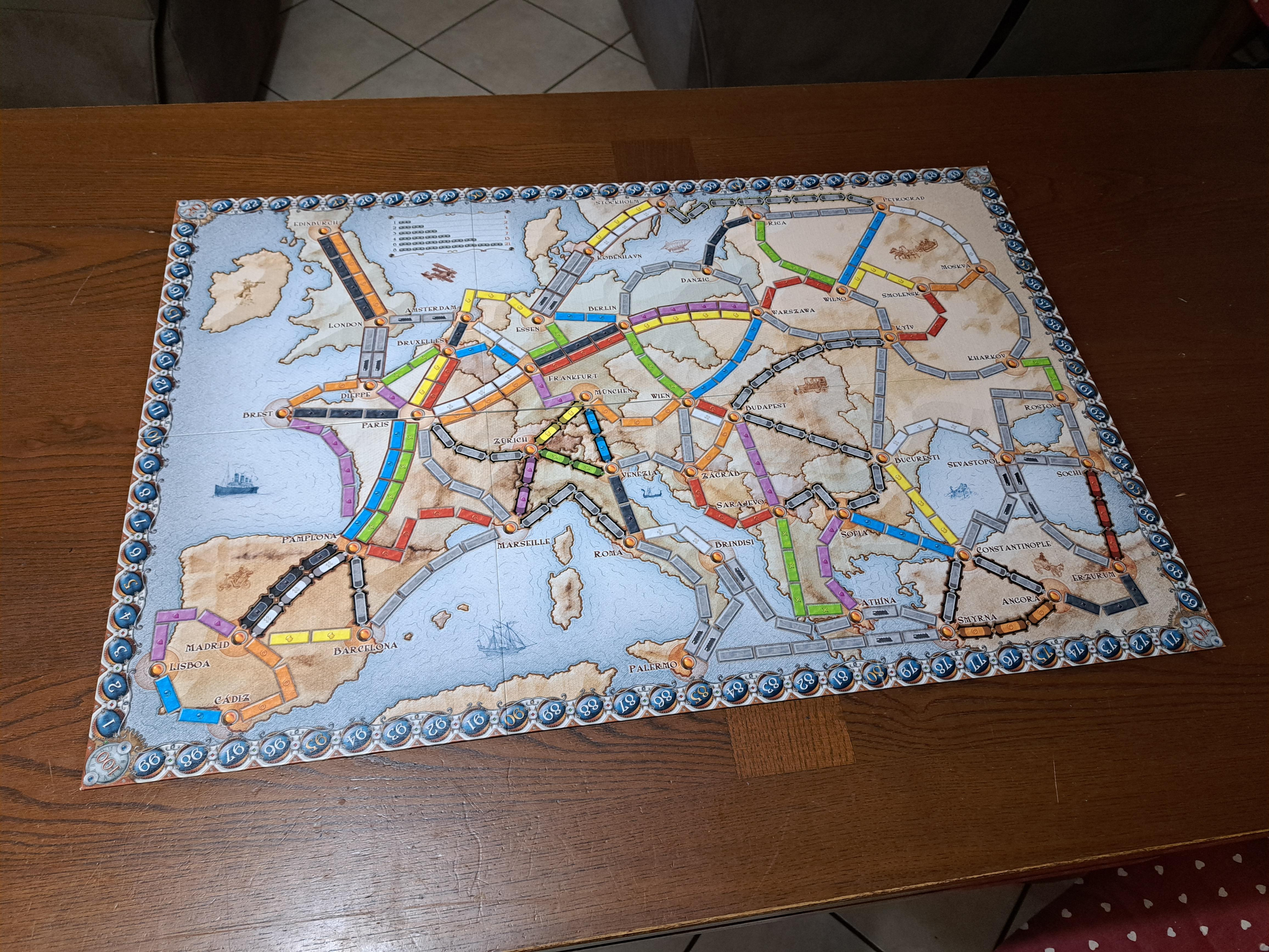corner_bl: (81, 738, 133, 789)
corner_br: (1176, 613, 1225, 652)
corner_tl: (174, 199, 208, 221)
corner_tr: (966, 166, 994, 185)
